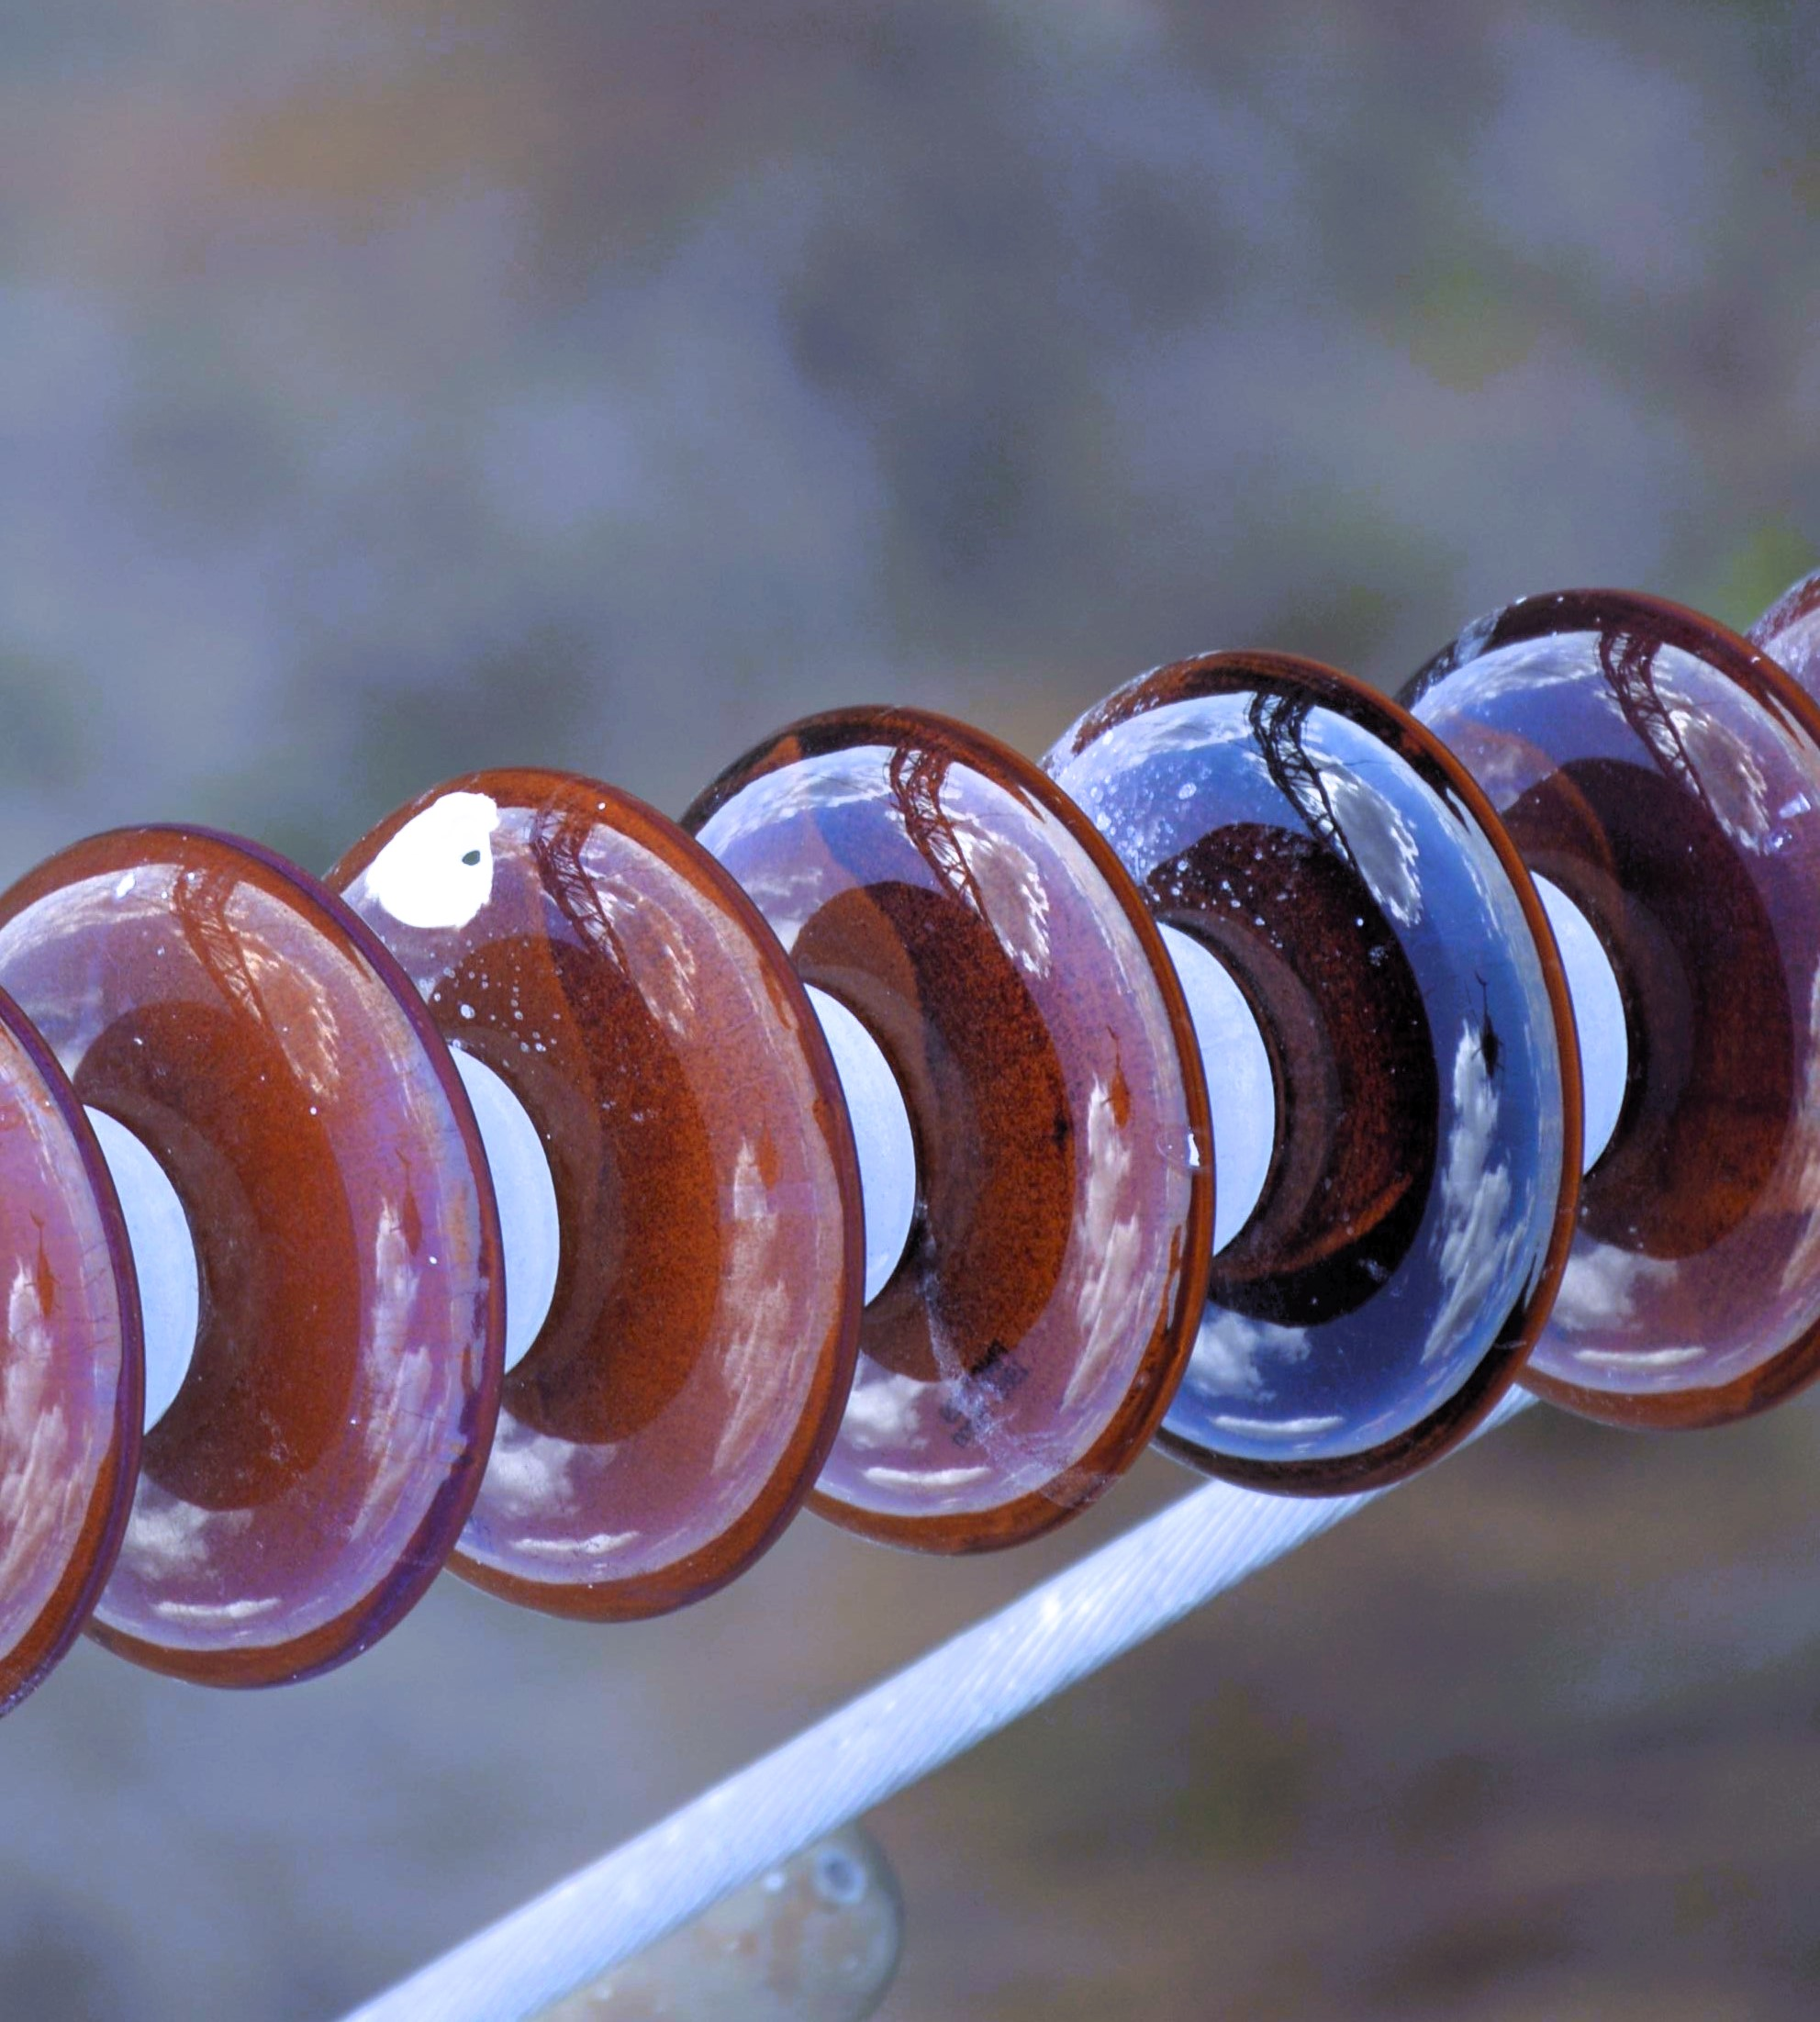insulator breakage: (311, 727, 877, 1646)
